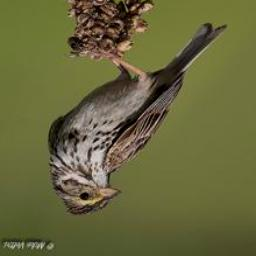Sparrow: (48, 24, 228, 217)
